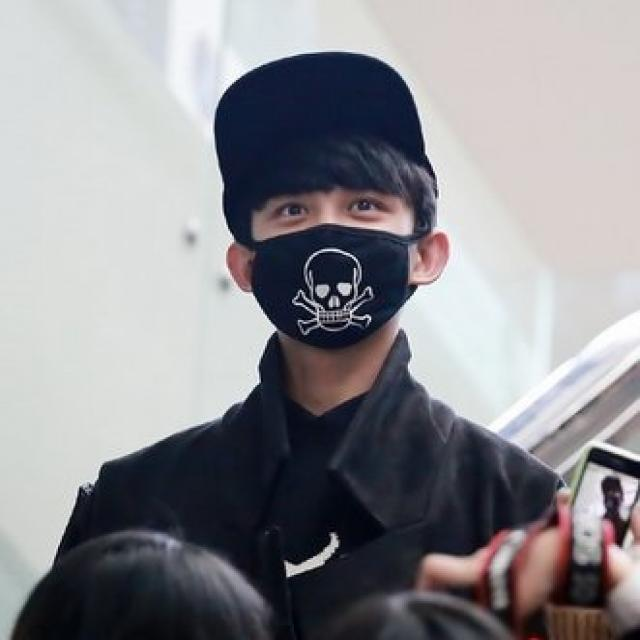mask: (245, 147, 412, 337)
